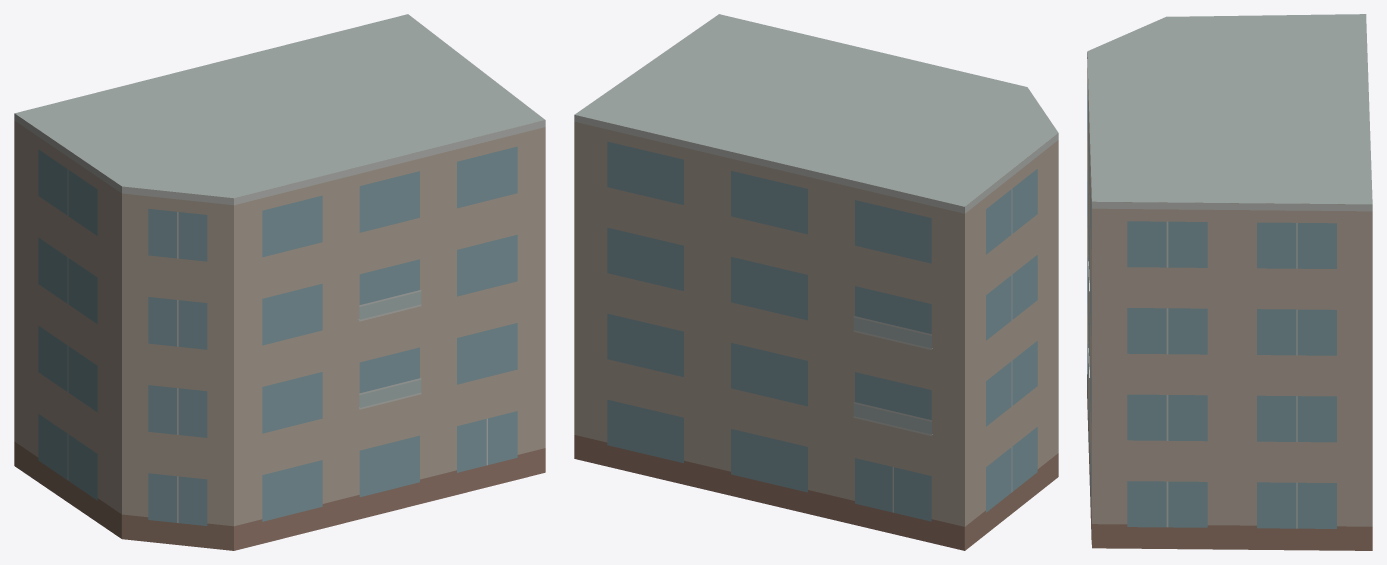
Rendered from survey-upis-32520147.glb.
3 views of the same model, side by side, from view 1: azimuth 30°, elevation 25°; view 2: azimuth 150°, elevation 25°; view 3: azimuth 270°, elevation 25° (orthographic). The views are drawn at different scales.
Visible parts, largest first — view 1: survey-upis-32520147.tmp; view 2: survey-upis-32520147.tmp; view 3: survey-upis-32520147.tmp.
Part boxes in pixels (x1,y1,x2,y2): survey-upis-32520147.tmp: (14, 14, 545, 550); survey-upis-32520147.tmp: (574, 14, 1058, 550); survey-upis-32520147.tmp: (1087, 14, 1372, 550).
Size of the model in its own units: 14.38 by 12.2 by 9.12.
